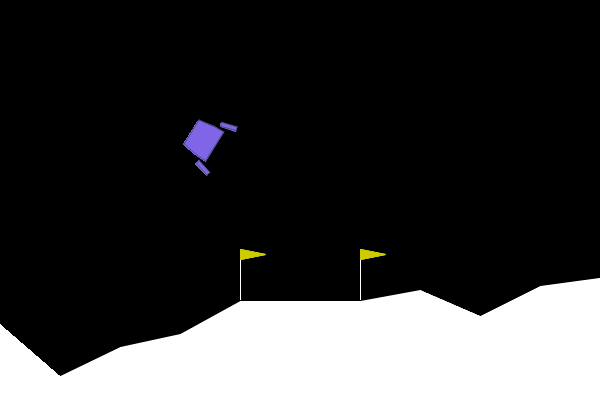lander: (173, 106, 239, 178)
